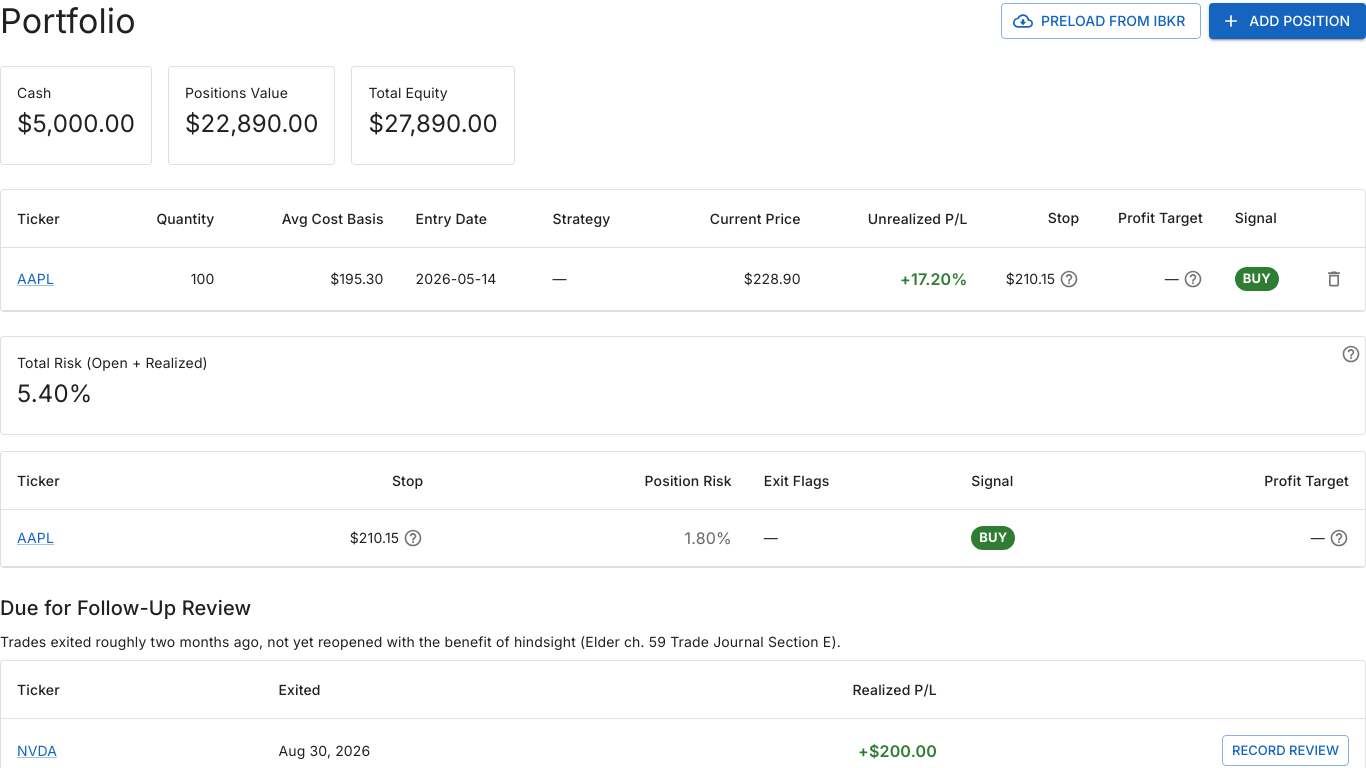
PortfolioPage › Preload from IBKR › enables the button once GET /api/ibkr/status reports available, and opens the review dialog on click
The image size is (1366, 768).
Check: the table named "Positions" is shown, box left=1, top=190, right=1365, bottom=311
Click the button "Preload from IBKR": (1101, 21) left=1001, top=3, right=1201, bottom=39
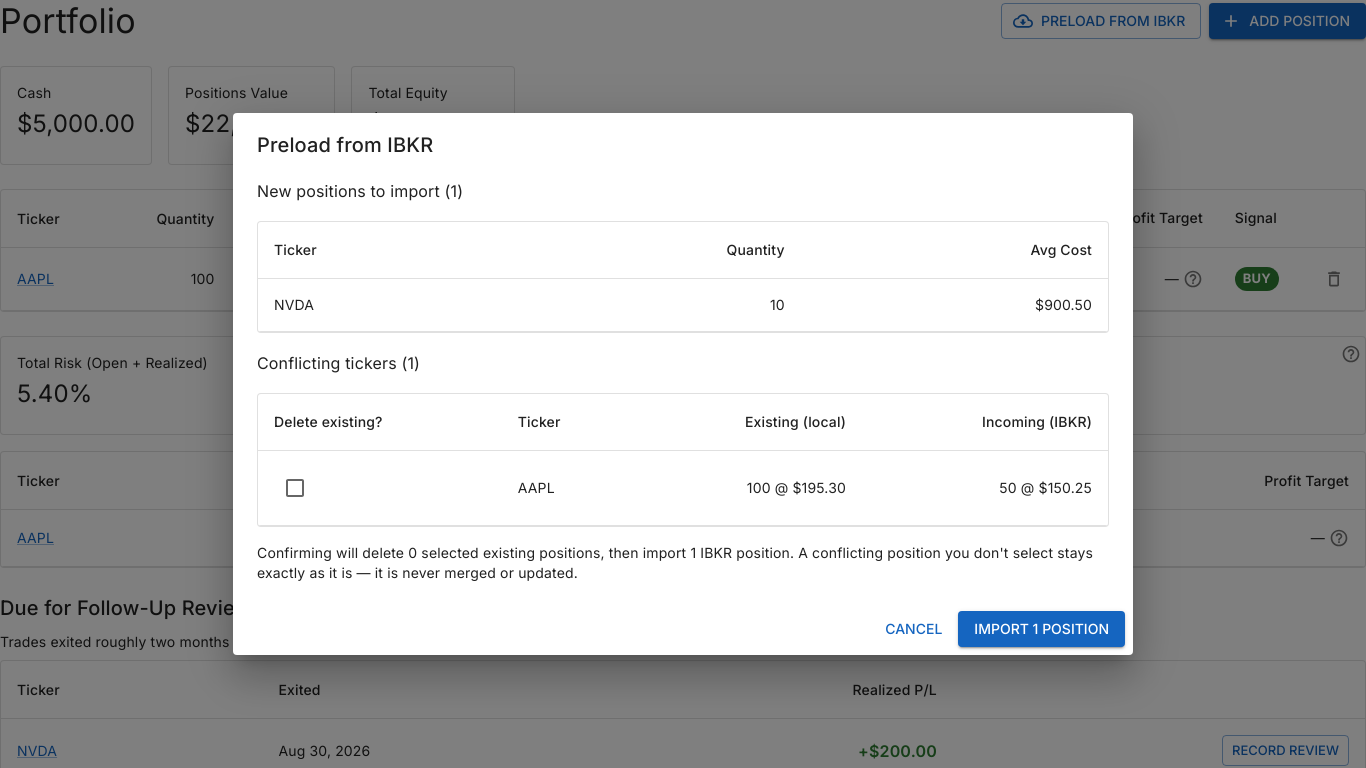
Check: the dialog is shown, box left=233, top=113, right=1133, bottom=655
Check: the heading "Conflicting tickers (1)" is shown, box left=257, top=353, right=420, bottom=373
Check: the text "AAPL" is shown, box left=502, top=450, right=632, bottom=525
